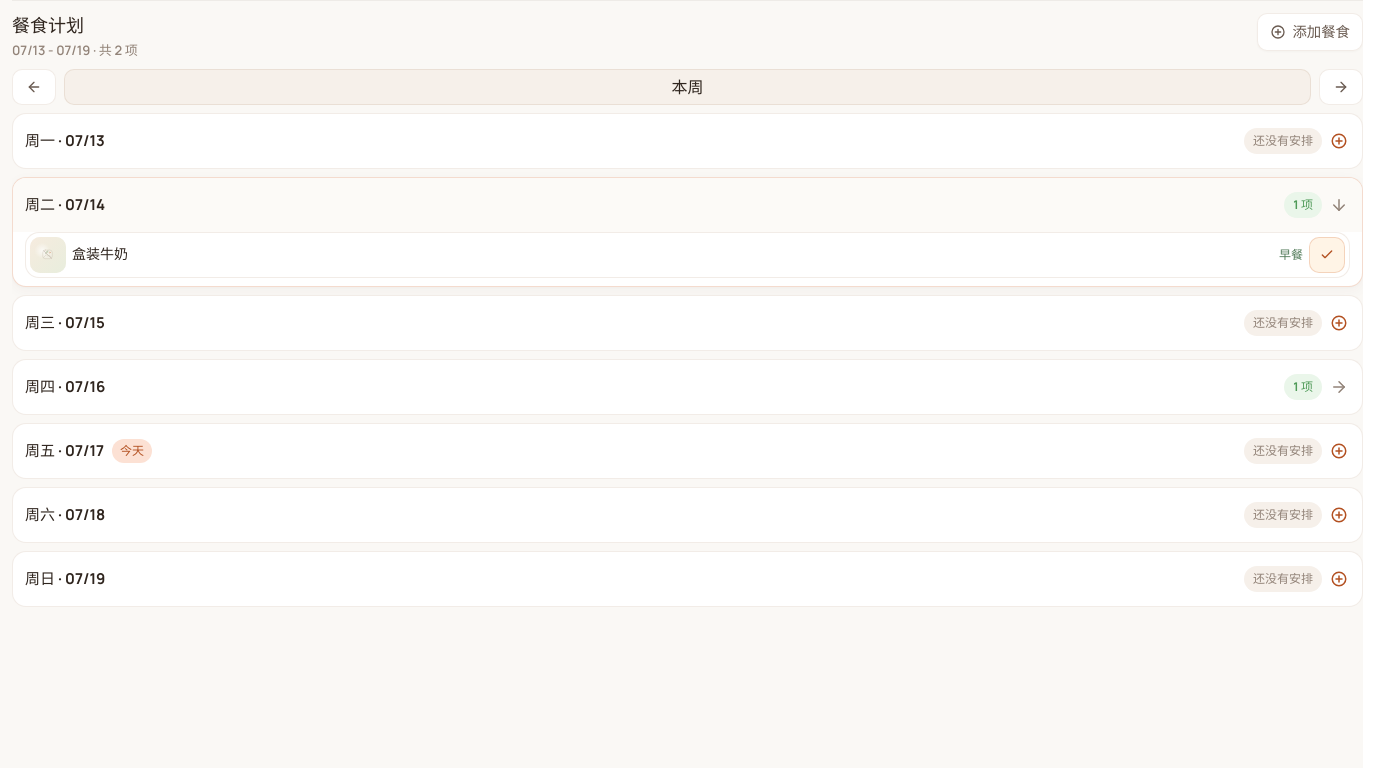
it: FoodPlanSurface desktop sidebar presentation › opens one planned day at a time and defaults to the first planned day when today is empty
Expected: the element with class "expanded" shows "盒装牛奶", [72,244,128,263]
Expected: the number of elements with class "expanded" is 1, [12,177,1363,287]
Click the button with class "food-sidebar-plan-day-head" showing "周四 · 07/16 1 项".
click(40, 386)  # box [13,360,1362,414]
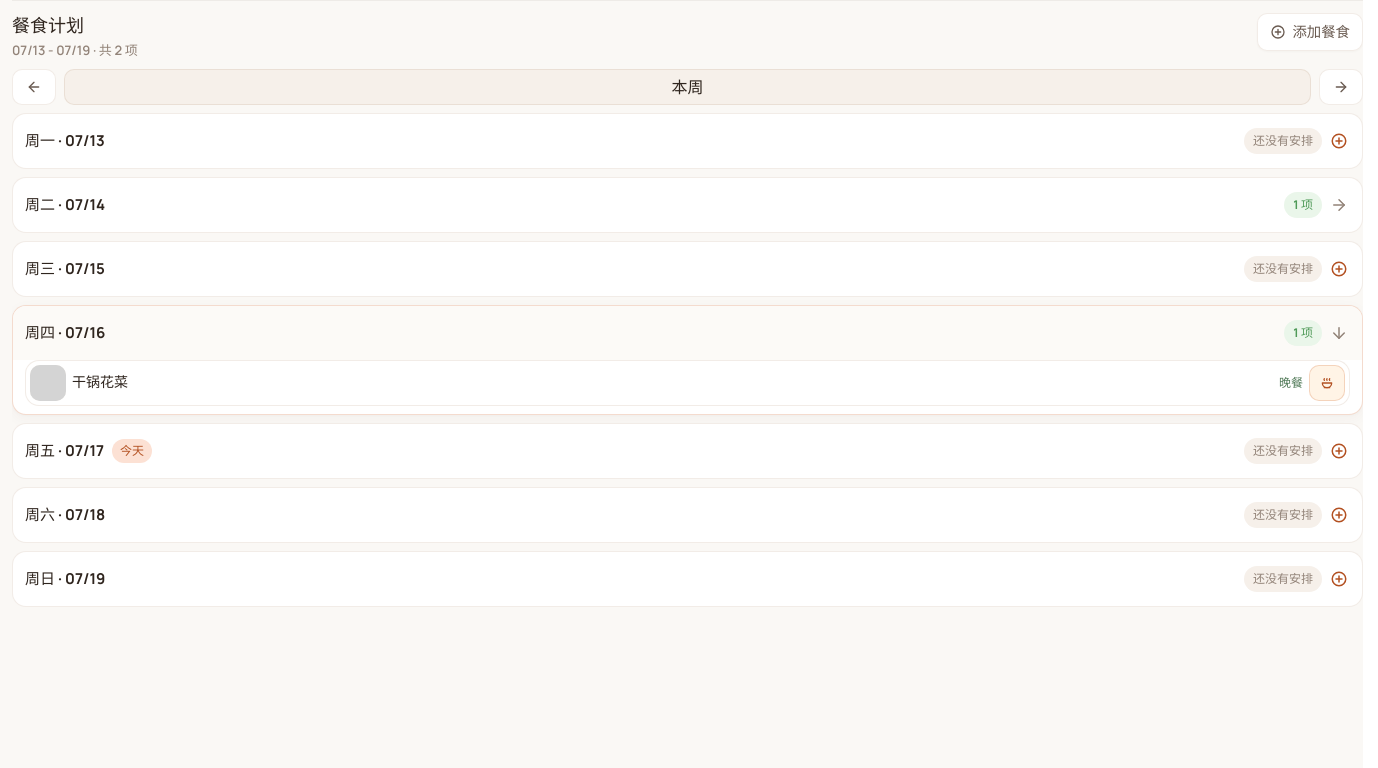
Expected: the number of elements with class "expanded" is 1, [12,305,1363,415]
Expected: the element with class "food-sidebar-plan-week" shows "干锅花菜", [72,372,128,391]
Expected: the button with class "food-sidebar-plan-week" no longer shows "盒装牛奶"
